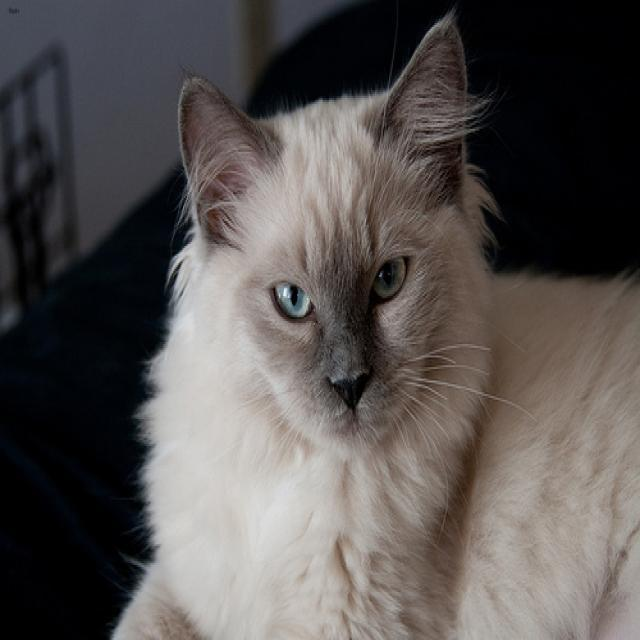Ragdoll: (176, 14, 500, 460)
